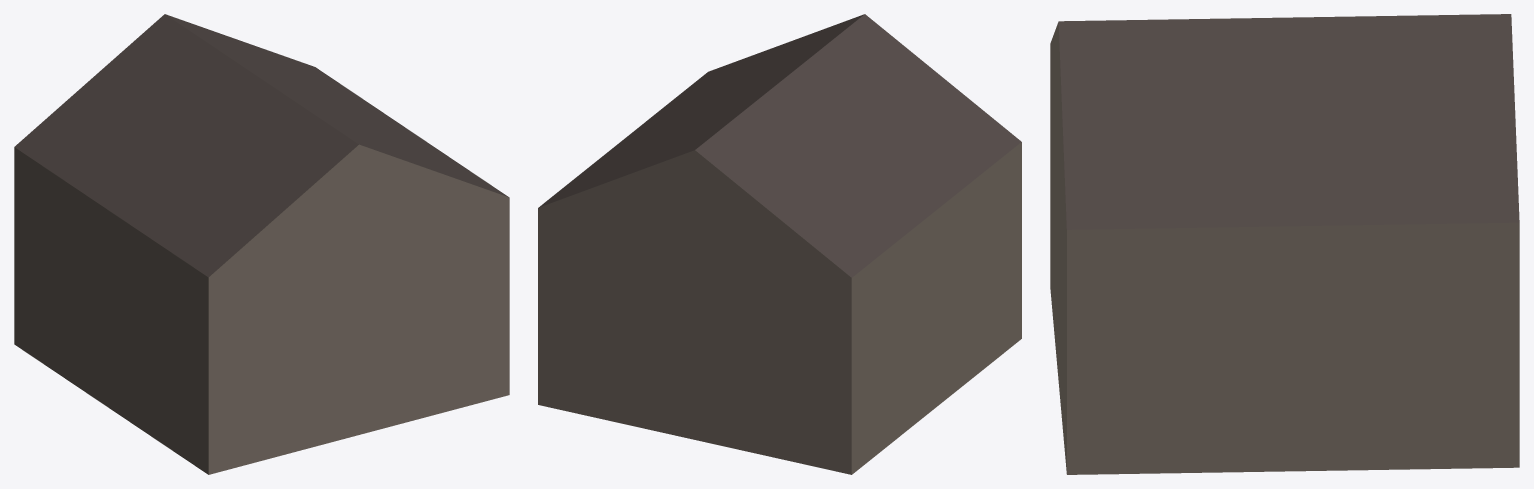
3 views of the same model, side by side, from view 1: azimuth 30°, elevation 25°; view 2: azimuth 150°, elevation 25°; view 3: azimuth 270°, elevation 25° (orthographic). The views are drawn at different scales.
Parts seen in each view (by area): view 1: HP-w859424195; view 2: HP-w859424195; view 3: HP-w859424195.
Boxes of the visible parts, bbox=[...] form: HP-w859424195: bbox=[14, 14, 509, 474]; HP-w859424195: bbox=[538, 14, 1021, 474]; HP-w859424195: bbox=[1050, 14, 1519, 474].
Size of the model in its own units: 10.17 by 8.83 by 10.41.
